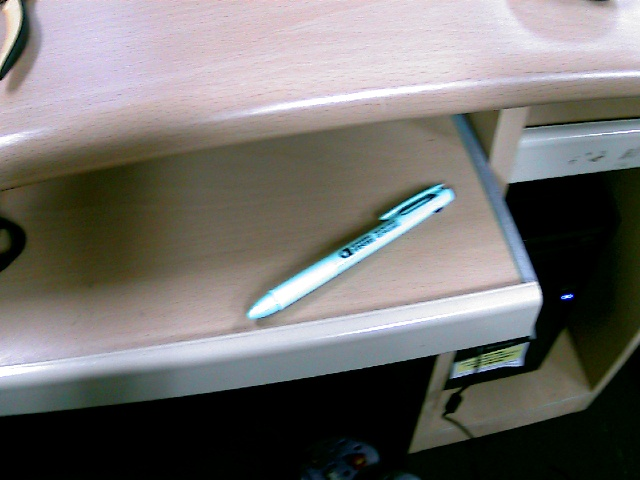pen: (252, 178, 457, 323)
